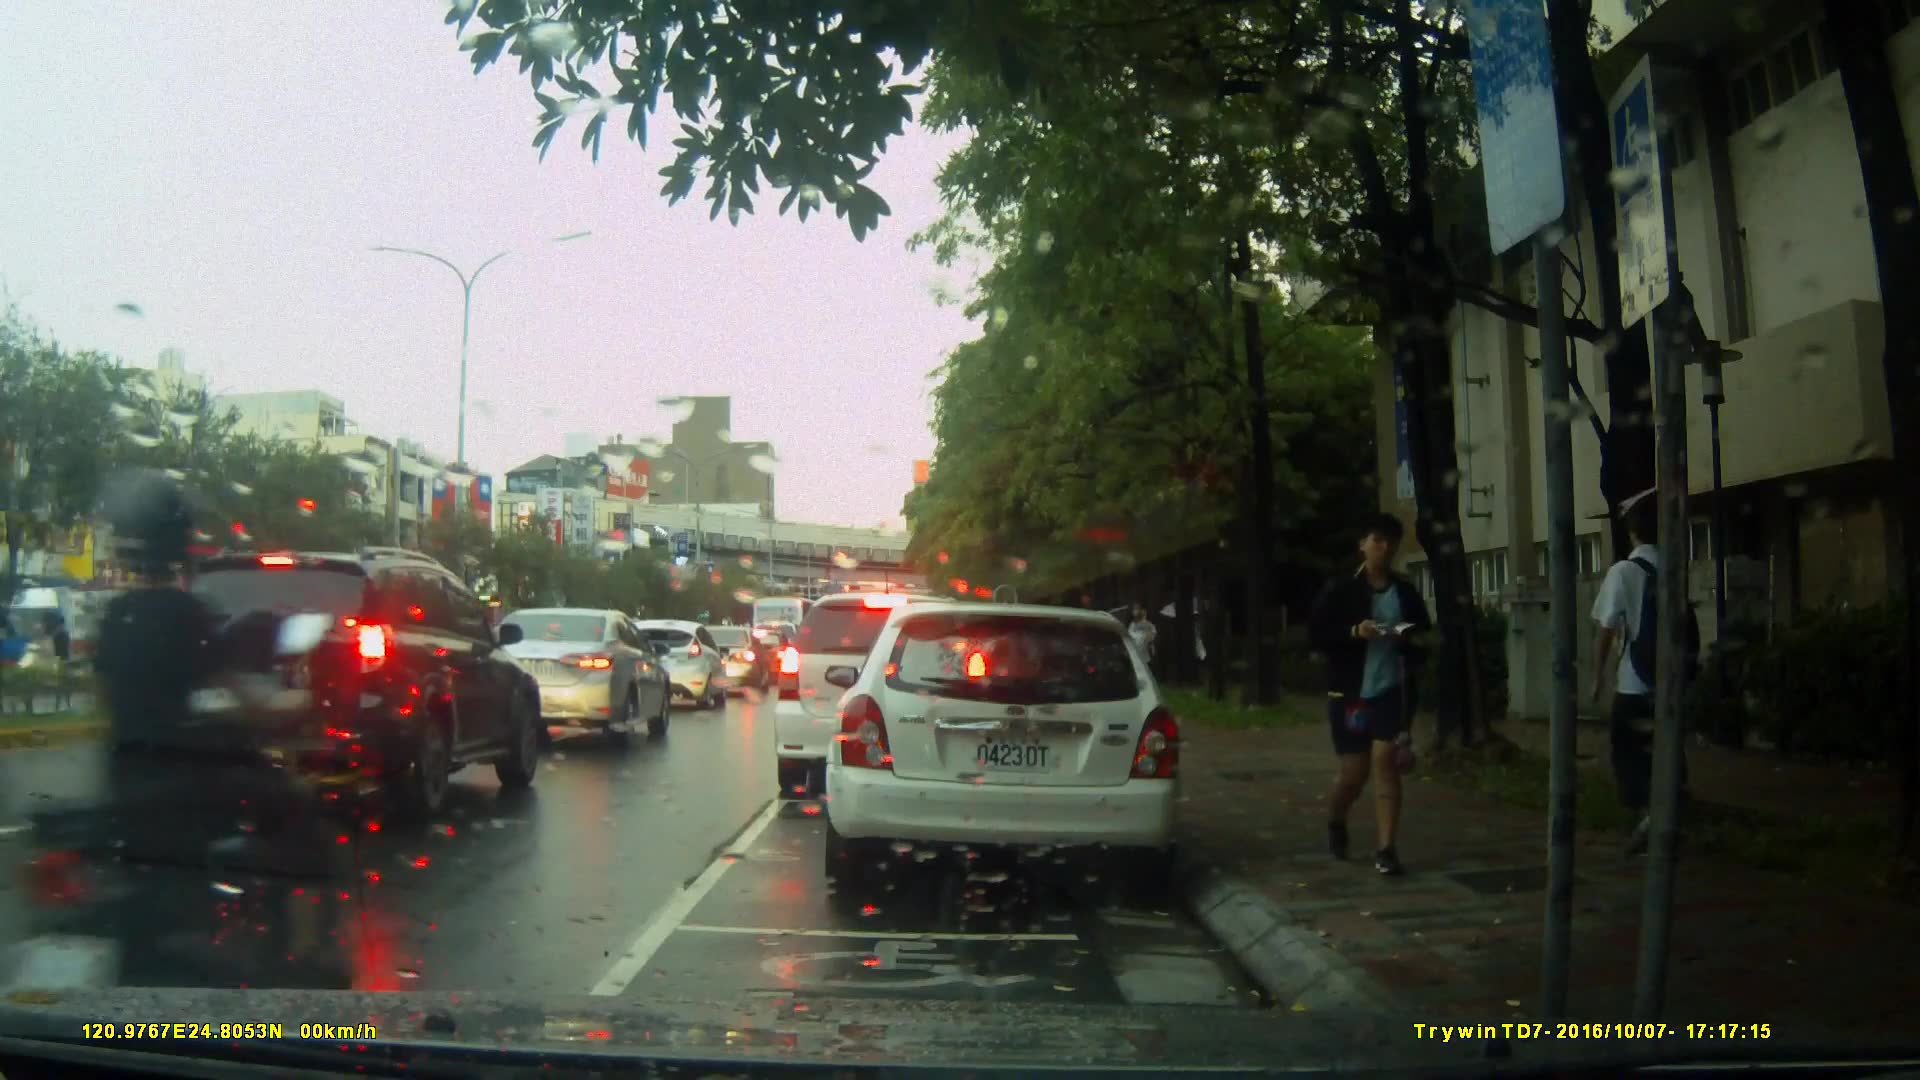pedestrian: (1576, 467, 1719, 874), (1291, 511, 1448, 884), (1118, 588, 1165, 730)
rider: (14, 463, 341, 1046)
vehicle: (815, 593, 1200, 897), (145, 545, 542, 830), (770, 590, 995, 802), (475, 608, 682, 750), (1, 584, 150, 686), (606, 617, 731, 713), (688, 625, 764, 690)
